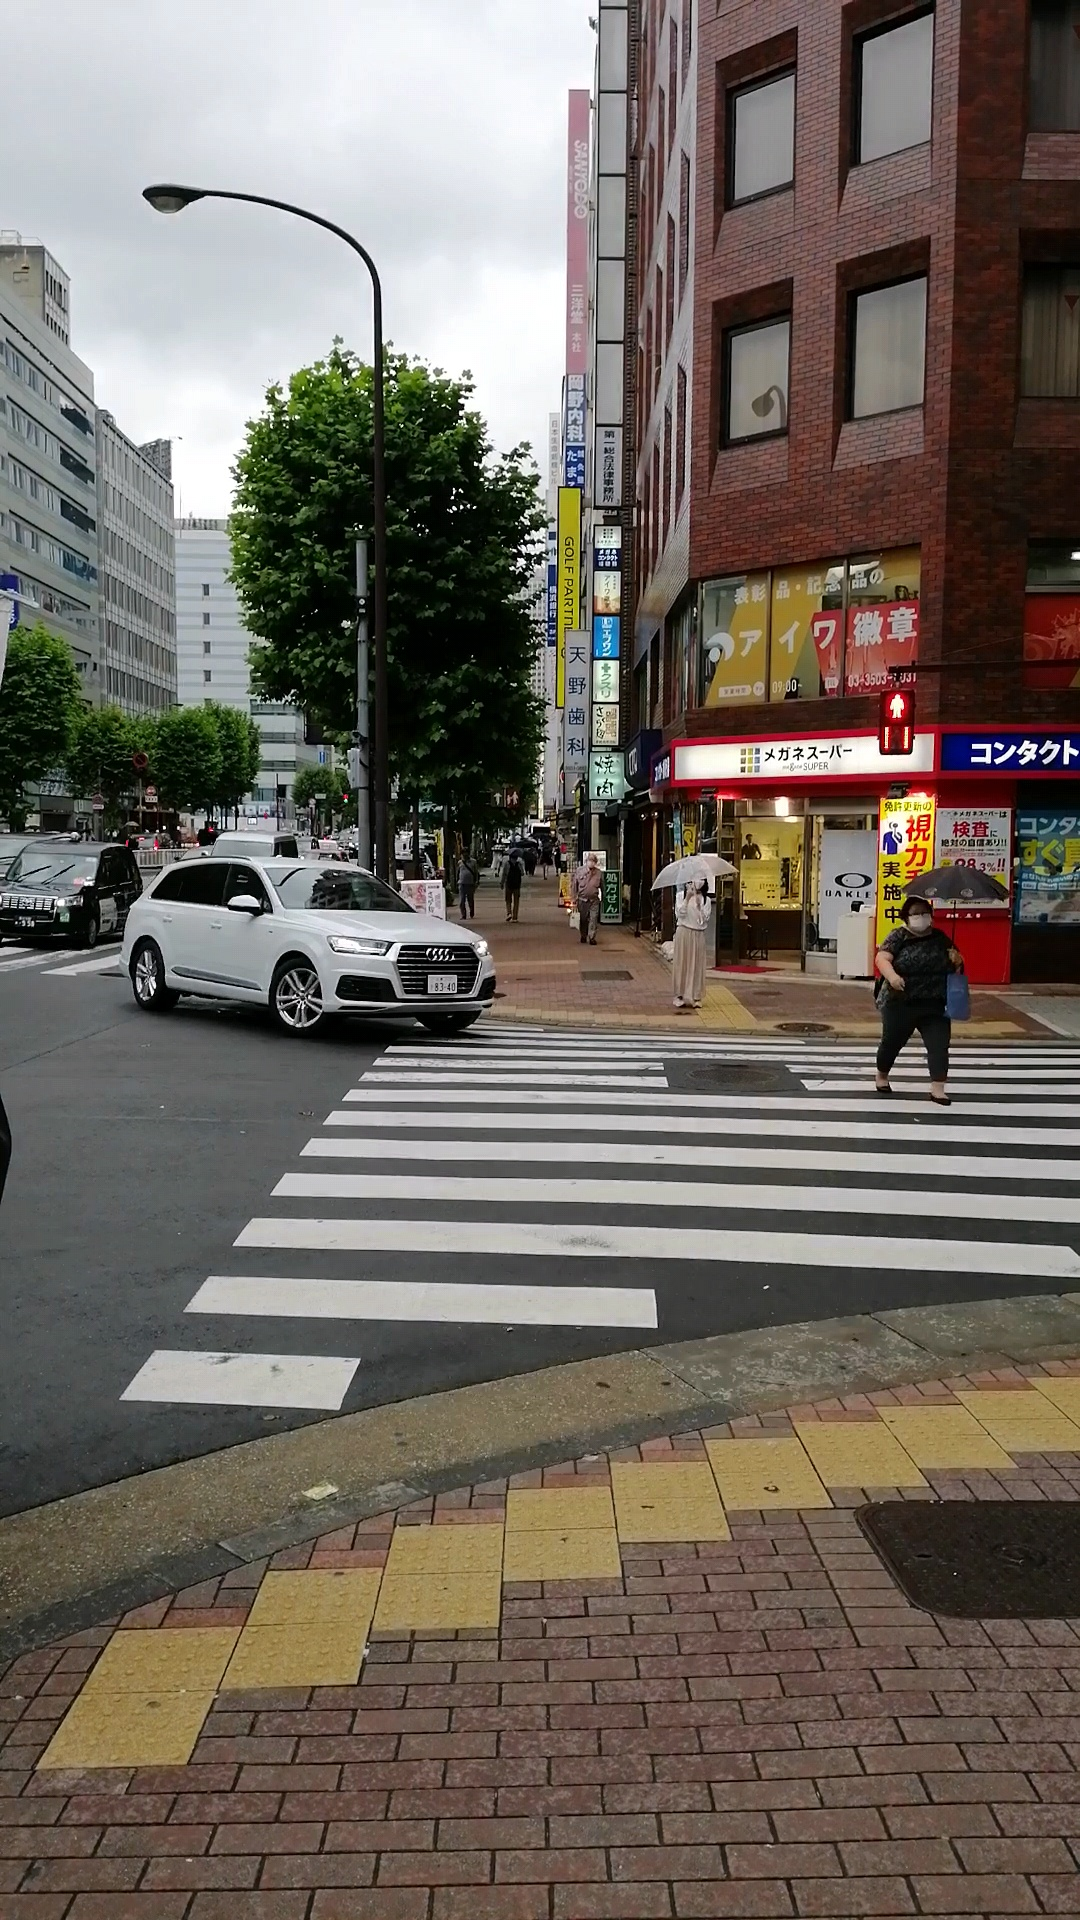red: (877, 690, 914, 756)
